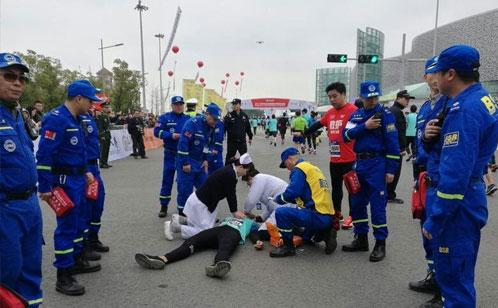10+: (1, 40, 498, 307)
down: (130, 208, 267, 280)
